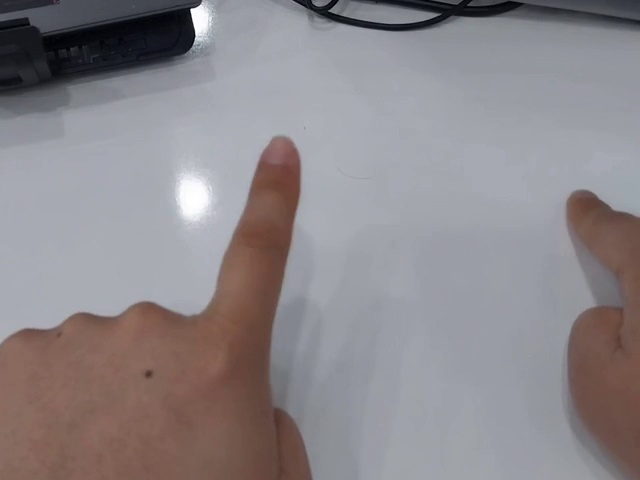fingers: (250, 134, 302, 196), (563, 188, 615, 240)
